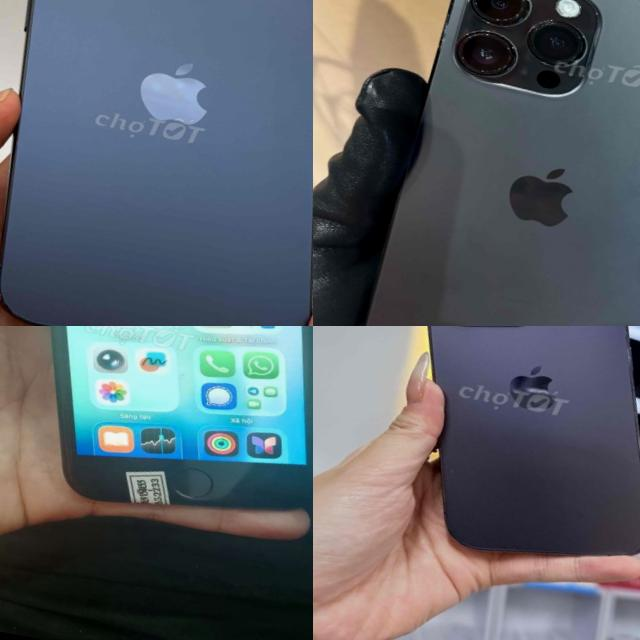gen_14: (337, 0, 640, 326), (361, 326, 640, 598)
gen_15: (0, 0, 313, 326)
gen_7_8: (0, 326, 313, 547)
